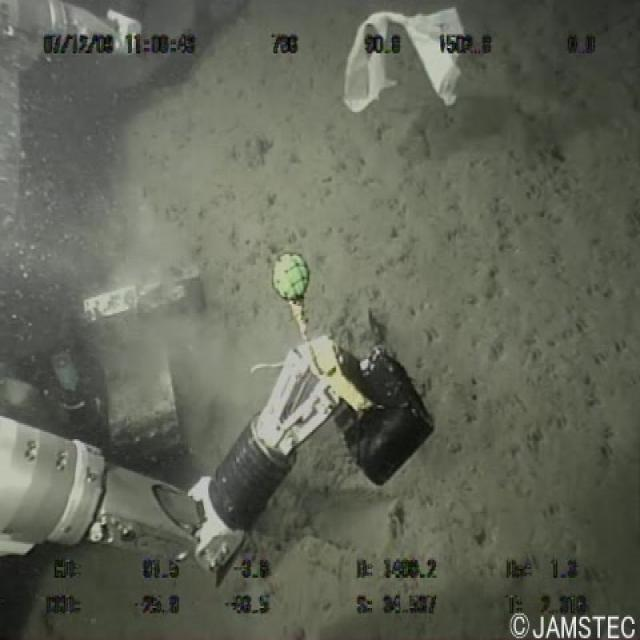plastic: (336, 0, 488, 123)
